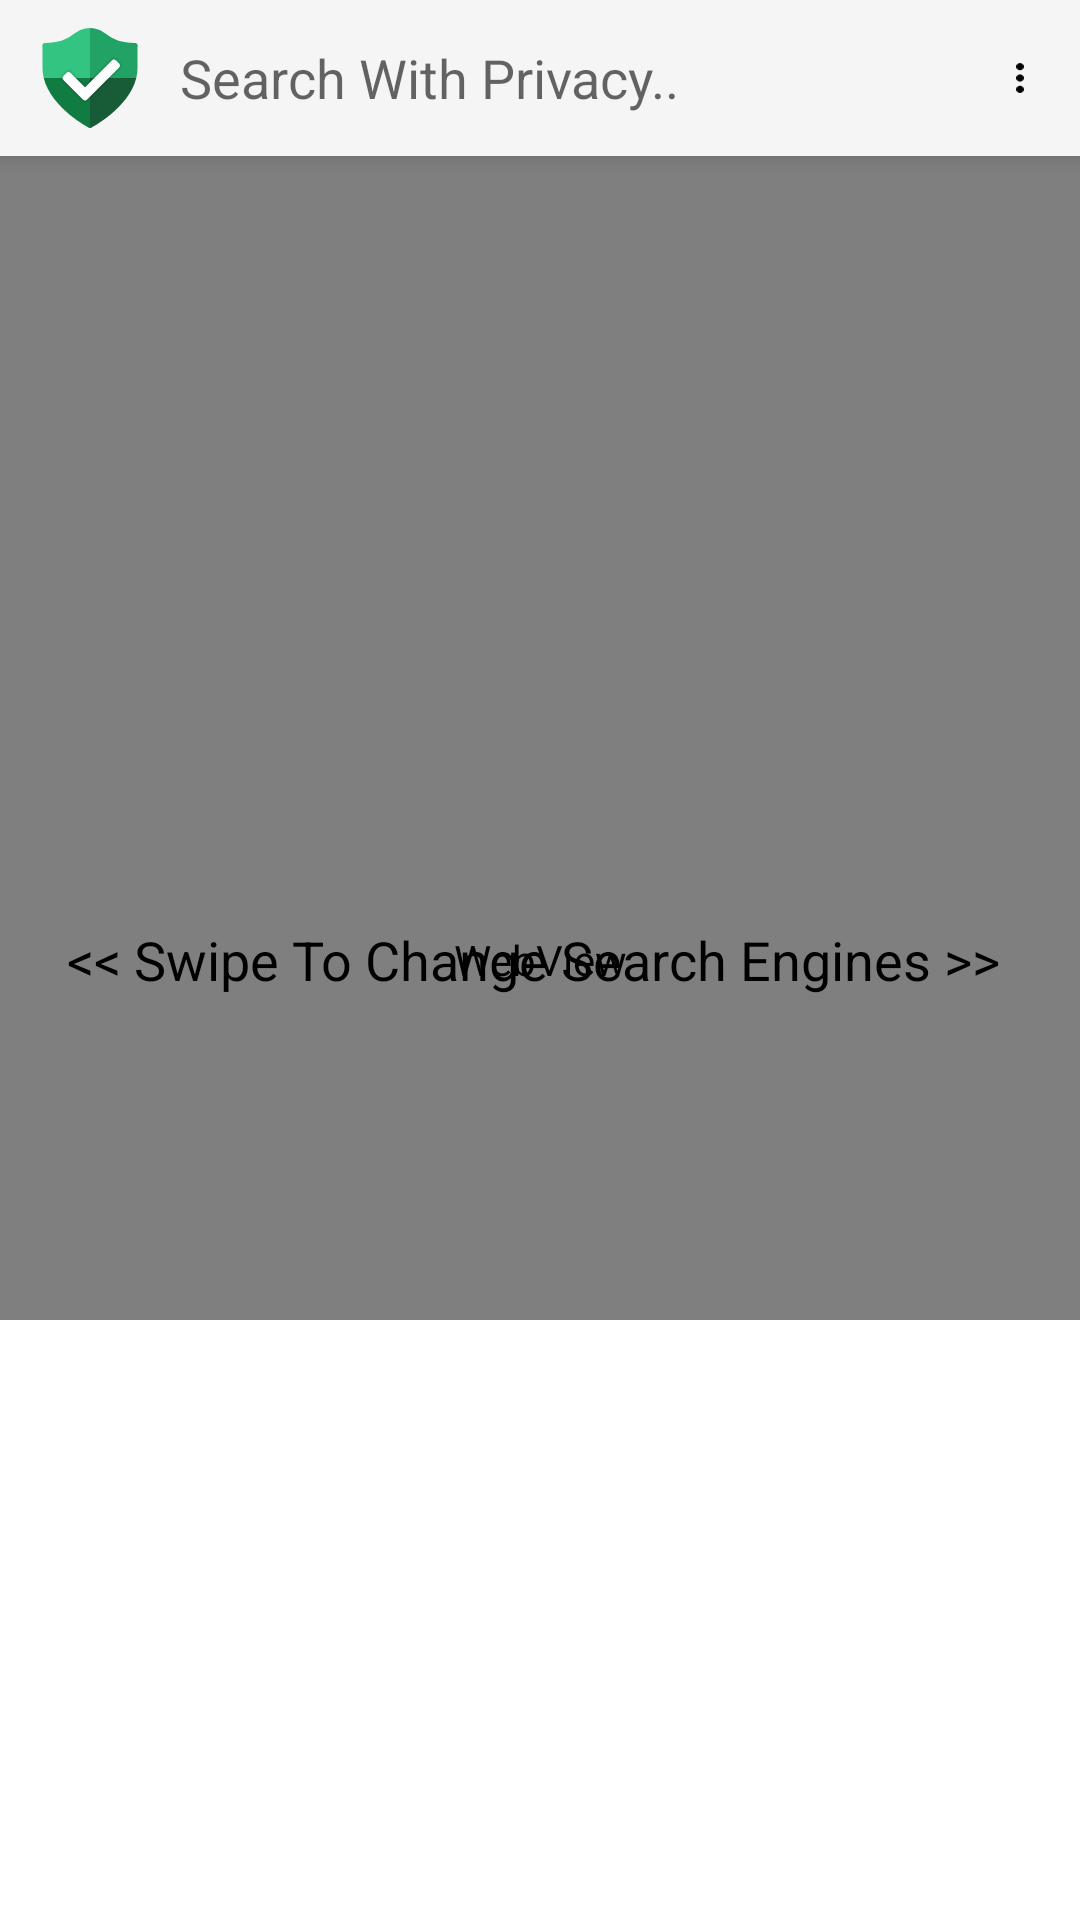

Icons on this 1080w x 1920h Android screen, each with its box as (left=x1, top=y1, right=x2, bottom=y2):
secure: (left=42, top=28, right=138, bottom=128)
three dots: (left=1016, top=63, right=1024, bottom=93)
